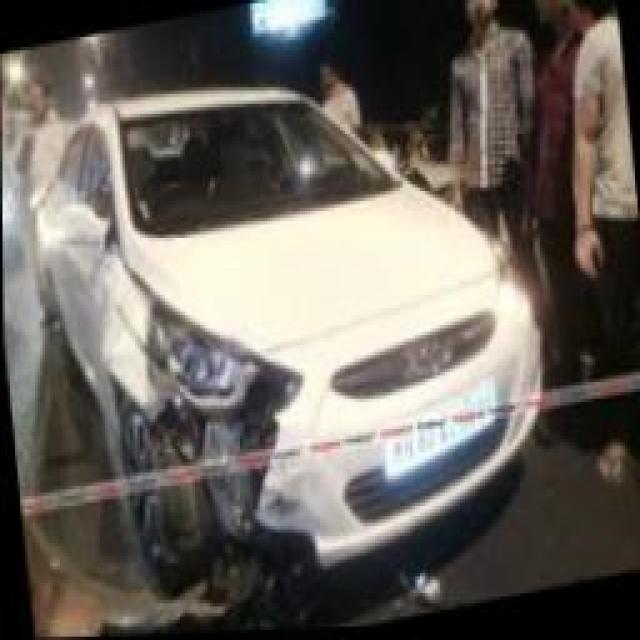Bumper: (173, 399, 352, 580)
Fender: (102, 258, 165, 417)
Light: (151, 308, 299, 404)
